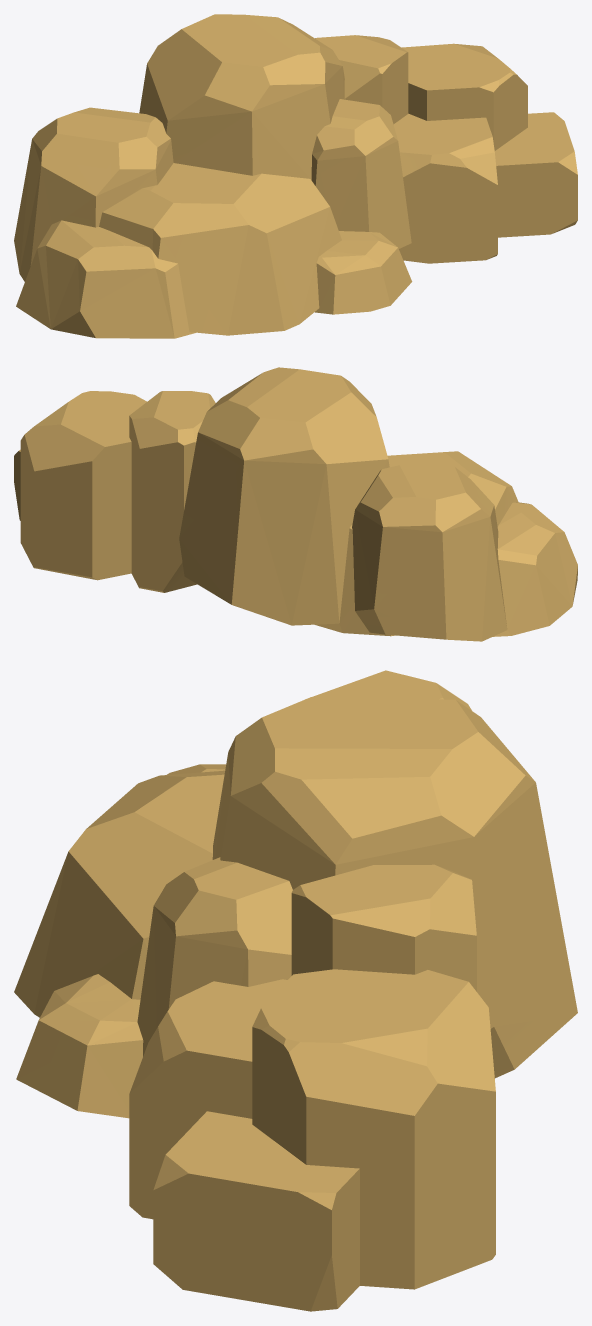
File: SL_Mountain1.fbx
3 renders of one model, top to bottom at view 1: azimuth 30°, elevation 25°; view 2: azimuth 150°, elevation 25°; view 3: azimuth 270°, elevation 25°, orthographic. The views are drawn at different scales.
Visible parts, largest first — view 1: crystal_16.001; view 2: crystal_16.001; view 3: crystal_16.001.
Part boxes in pixels (x1,y1,x2,y2): crystal_16.001: (14,14,577,338); crystal_16.001: (14,367,577,641); crystal_16.001: (14,670,577,1311).
Size of the model in its own units: 6462 by 2350 by 3501.
